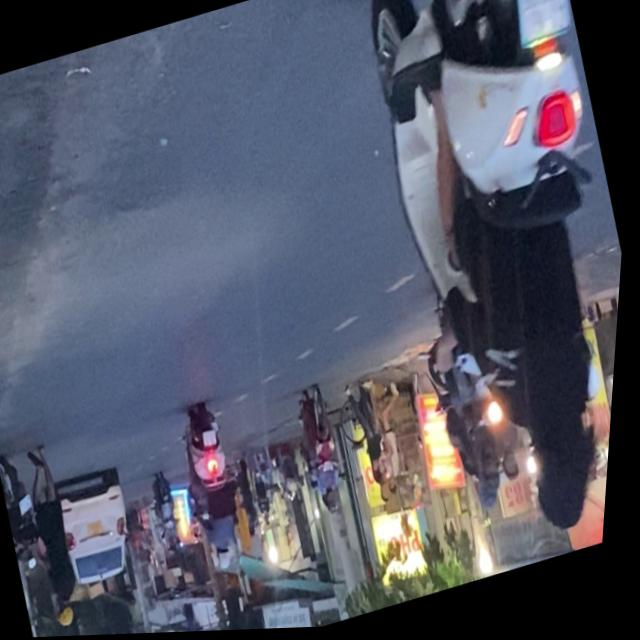licenseplate: (313, 0, 640, 590)
motorcyclist: (510, 379, 619, 546)
nohelmet: (505, 0, 580, 54)
